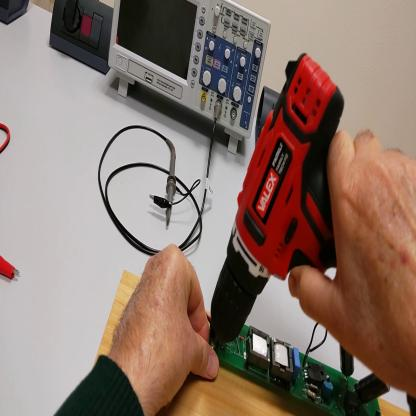electric screwdriver: (212, 52, 416, 416)
hand: (290, 122, 416, 395), (113, 242, 217, 404)
high voltage board: (207, 313, 392, 415)
oscilloscope: (110, 2, 272, 157)
oscilloscope probe tip: (166, 145, 179, 226)
socket: (47, 3, 116, 77), (1, 2, 30, 27)
working area: (96, 272, 411, 415)
